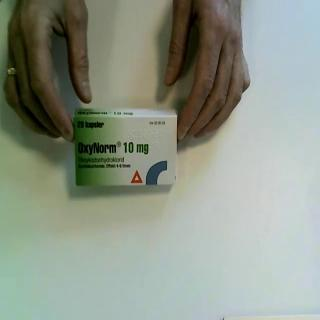oxynorm10mg: (73, 107, 179, 189)
